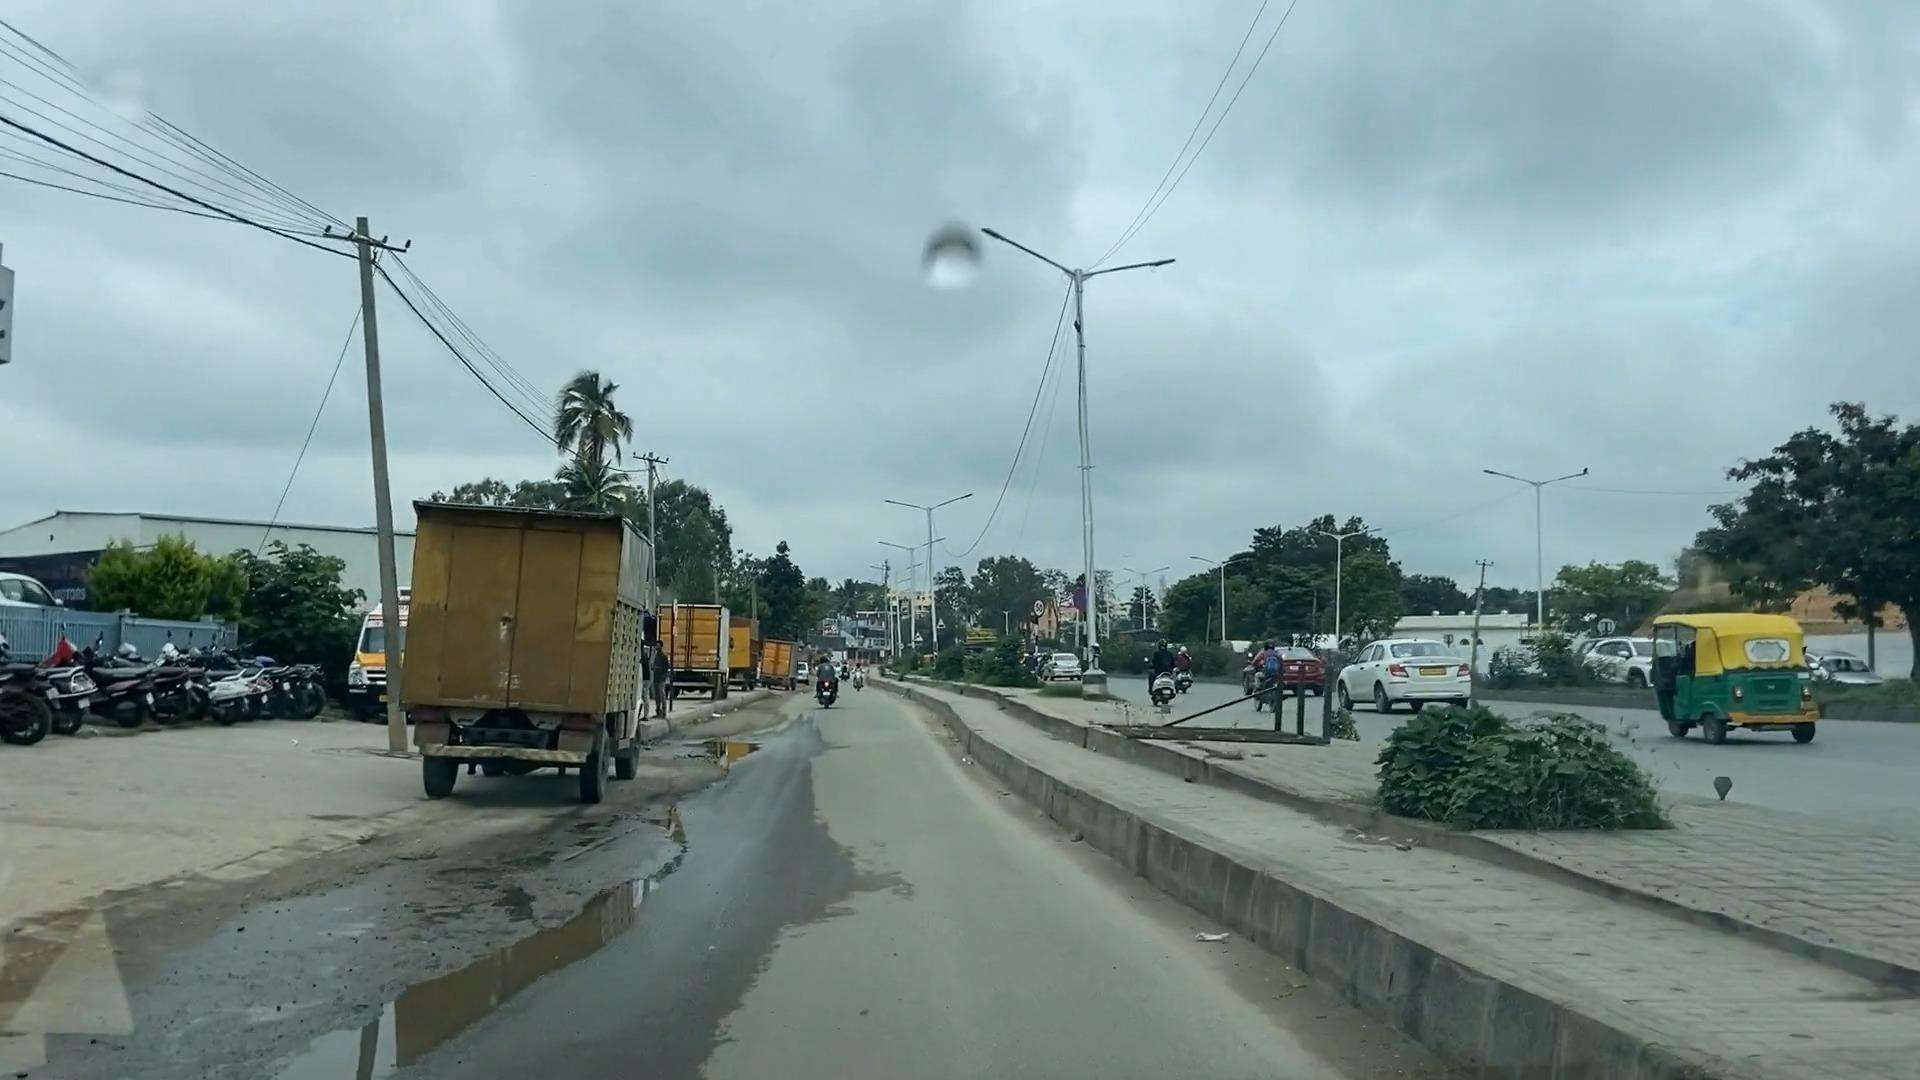HMV: (406, 497, 624, 790)
RoadDamages: (413, 827, 702, 949)
